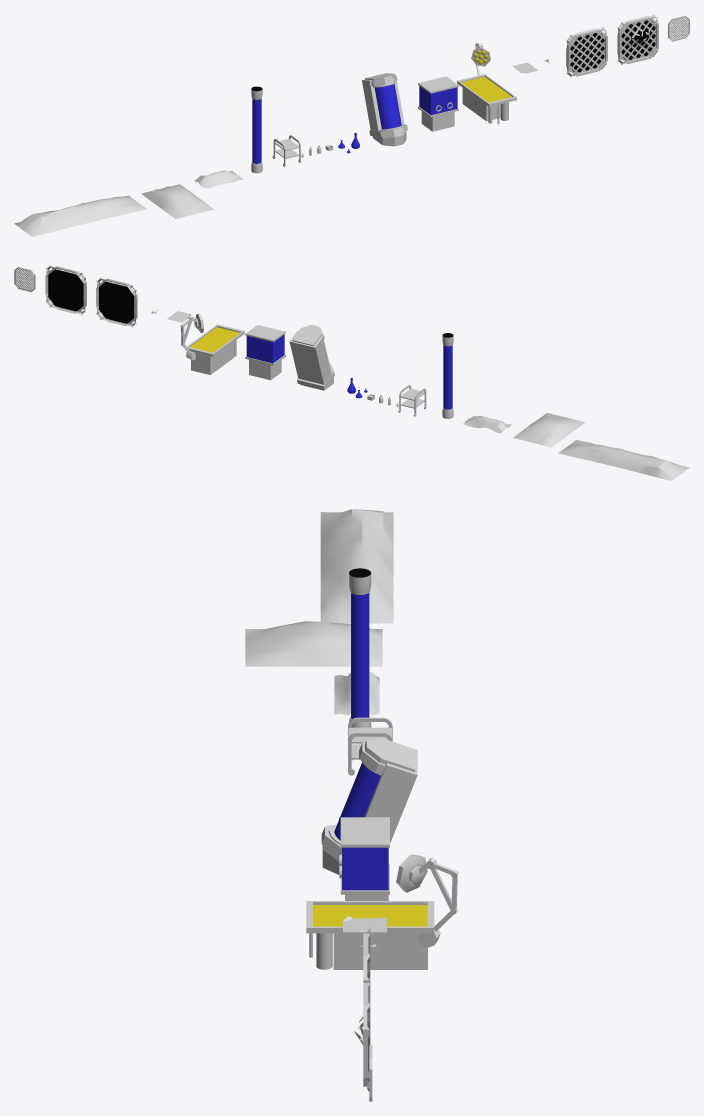
The model's file is DebrisBrighter.fbx.
3 views of the same model, one above another, from view 1: azimuth 30°, elevation 25°; view 2: azimuth 150°, elevation 25°; view 3: azimuth 270°, elevation 25° (orthographic). The views are drawn at different scales.
Parts seen in each view (by area): view 1: Cryotube, Debris3, Ecran articulé 2 .001, Experiment, Plane.003, Plane.004, Debris2, lavalamp, Debris1, chariot, Plane.005; view 2: Ecran articulé 2 .001, Debris3, Cryotube, Experiment, Plane.004, Plane.003, Debris2, lavalamp, chariot, Debris1, Plane.005; view 3: Ecran articulé 2 .001, Debris3, Cryotube, Debris2, Experiment, lavalamp, chariot, Debris1, Plane.004.
Boxes of the visible parts, x1,y1,x2,y2 form: Cryotube: [362, 73, 407, 146]; Debris3: [14, 195, 146, 236]; Ecran articulé 2 .001: [457, 43, 516, 124]; Experiment: [418, 76, 458, 131]; Plane.003: [566, 27, 607, 77]; Plane.004: [617, 14, 658, 64]; Debris2: [141, 184, 214, 218]; lavalamp: [251, 86, 262, 173]; Debris1: [194, 170, 243, 188]; chariot: [272, 135, 301, 166]; Plane.005: [668, 15, 689, 41]; Ecran articulé 2 .001: [180, 313, 244, 374]; Debris3: [558, 440, 689, 480]; Cryotube: [289, 325, 334, 390]; Experiment: [245, 325, 285, 380]; Plane.004: [45, 265, 86, 315]; Plane.003: [96, 277, 137, 327]; Debris2: [513, 413, 585, 447]; lavalamp: [442, 333, 453, 418]; chariot: [398, 385, 426, 416]; Debris1: [463, 415, 511, 433]; Plane.005: [14, 267, 35, 292]; Ecran articulé 2 .001: [306, 854, 458, 969]; Debris3: [320, 509, 393, 623]; Cryotube: [321, 738, 417, 874]; Debris2: [245, 621, 382, 666]; Experiment: [339, 817, 389, 900]; lavalamp: [349, 568, 371, 727]; chariot: [348, 717, 392, 775]; Debris1: [334, 672, 379, 715]; Plane.004: [354, 977, 370, 1091].
Bounding box in the file's own units: 3416 × 475 × 409.
